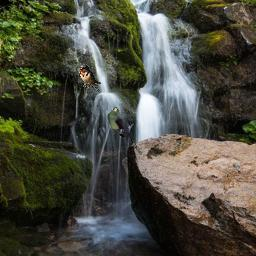Cuckoo: (107, 107, 145, 156)
Swallow: (78, 64, 101, 93)
